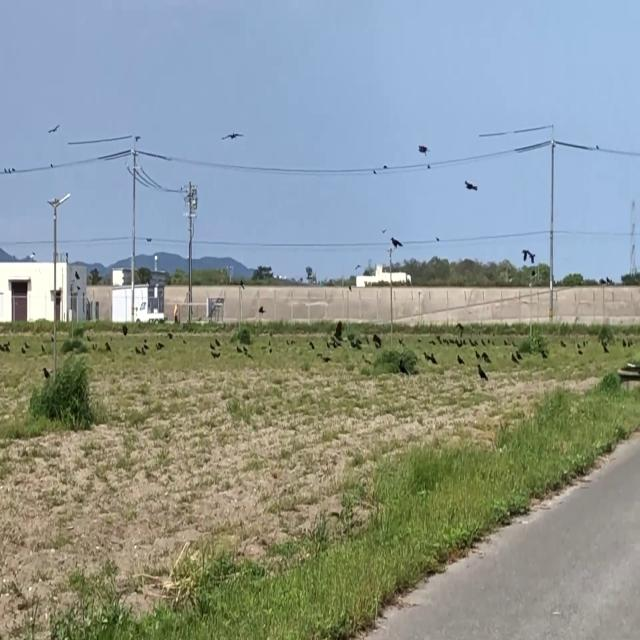bird: (225, 122, 240, 148), (464, 173, 477, 196), (418, 136, 428, 162), (391, 232, 402, 254), (478, 360, 485, 383), (213, 332, 219, 348), (511, 351, 515, 368), (458, 351, 462, 367), (484, 351, 488, 367), (430, 350, 434, 366), (622, 337, 626, 351)
